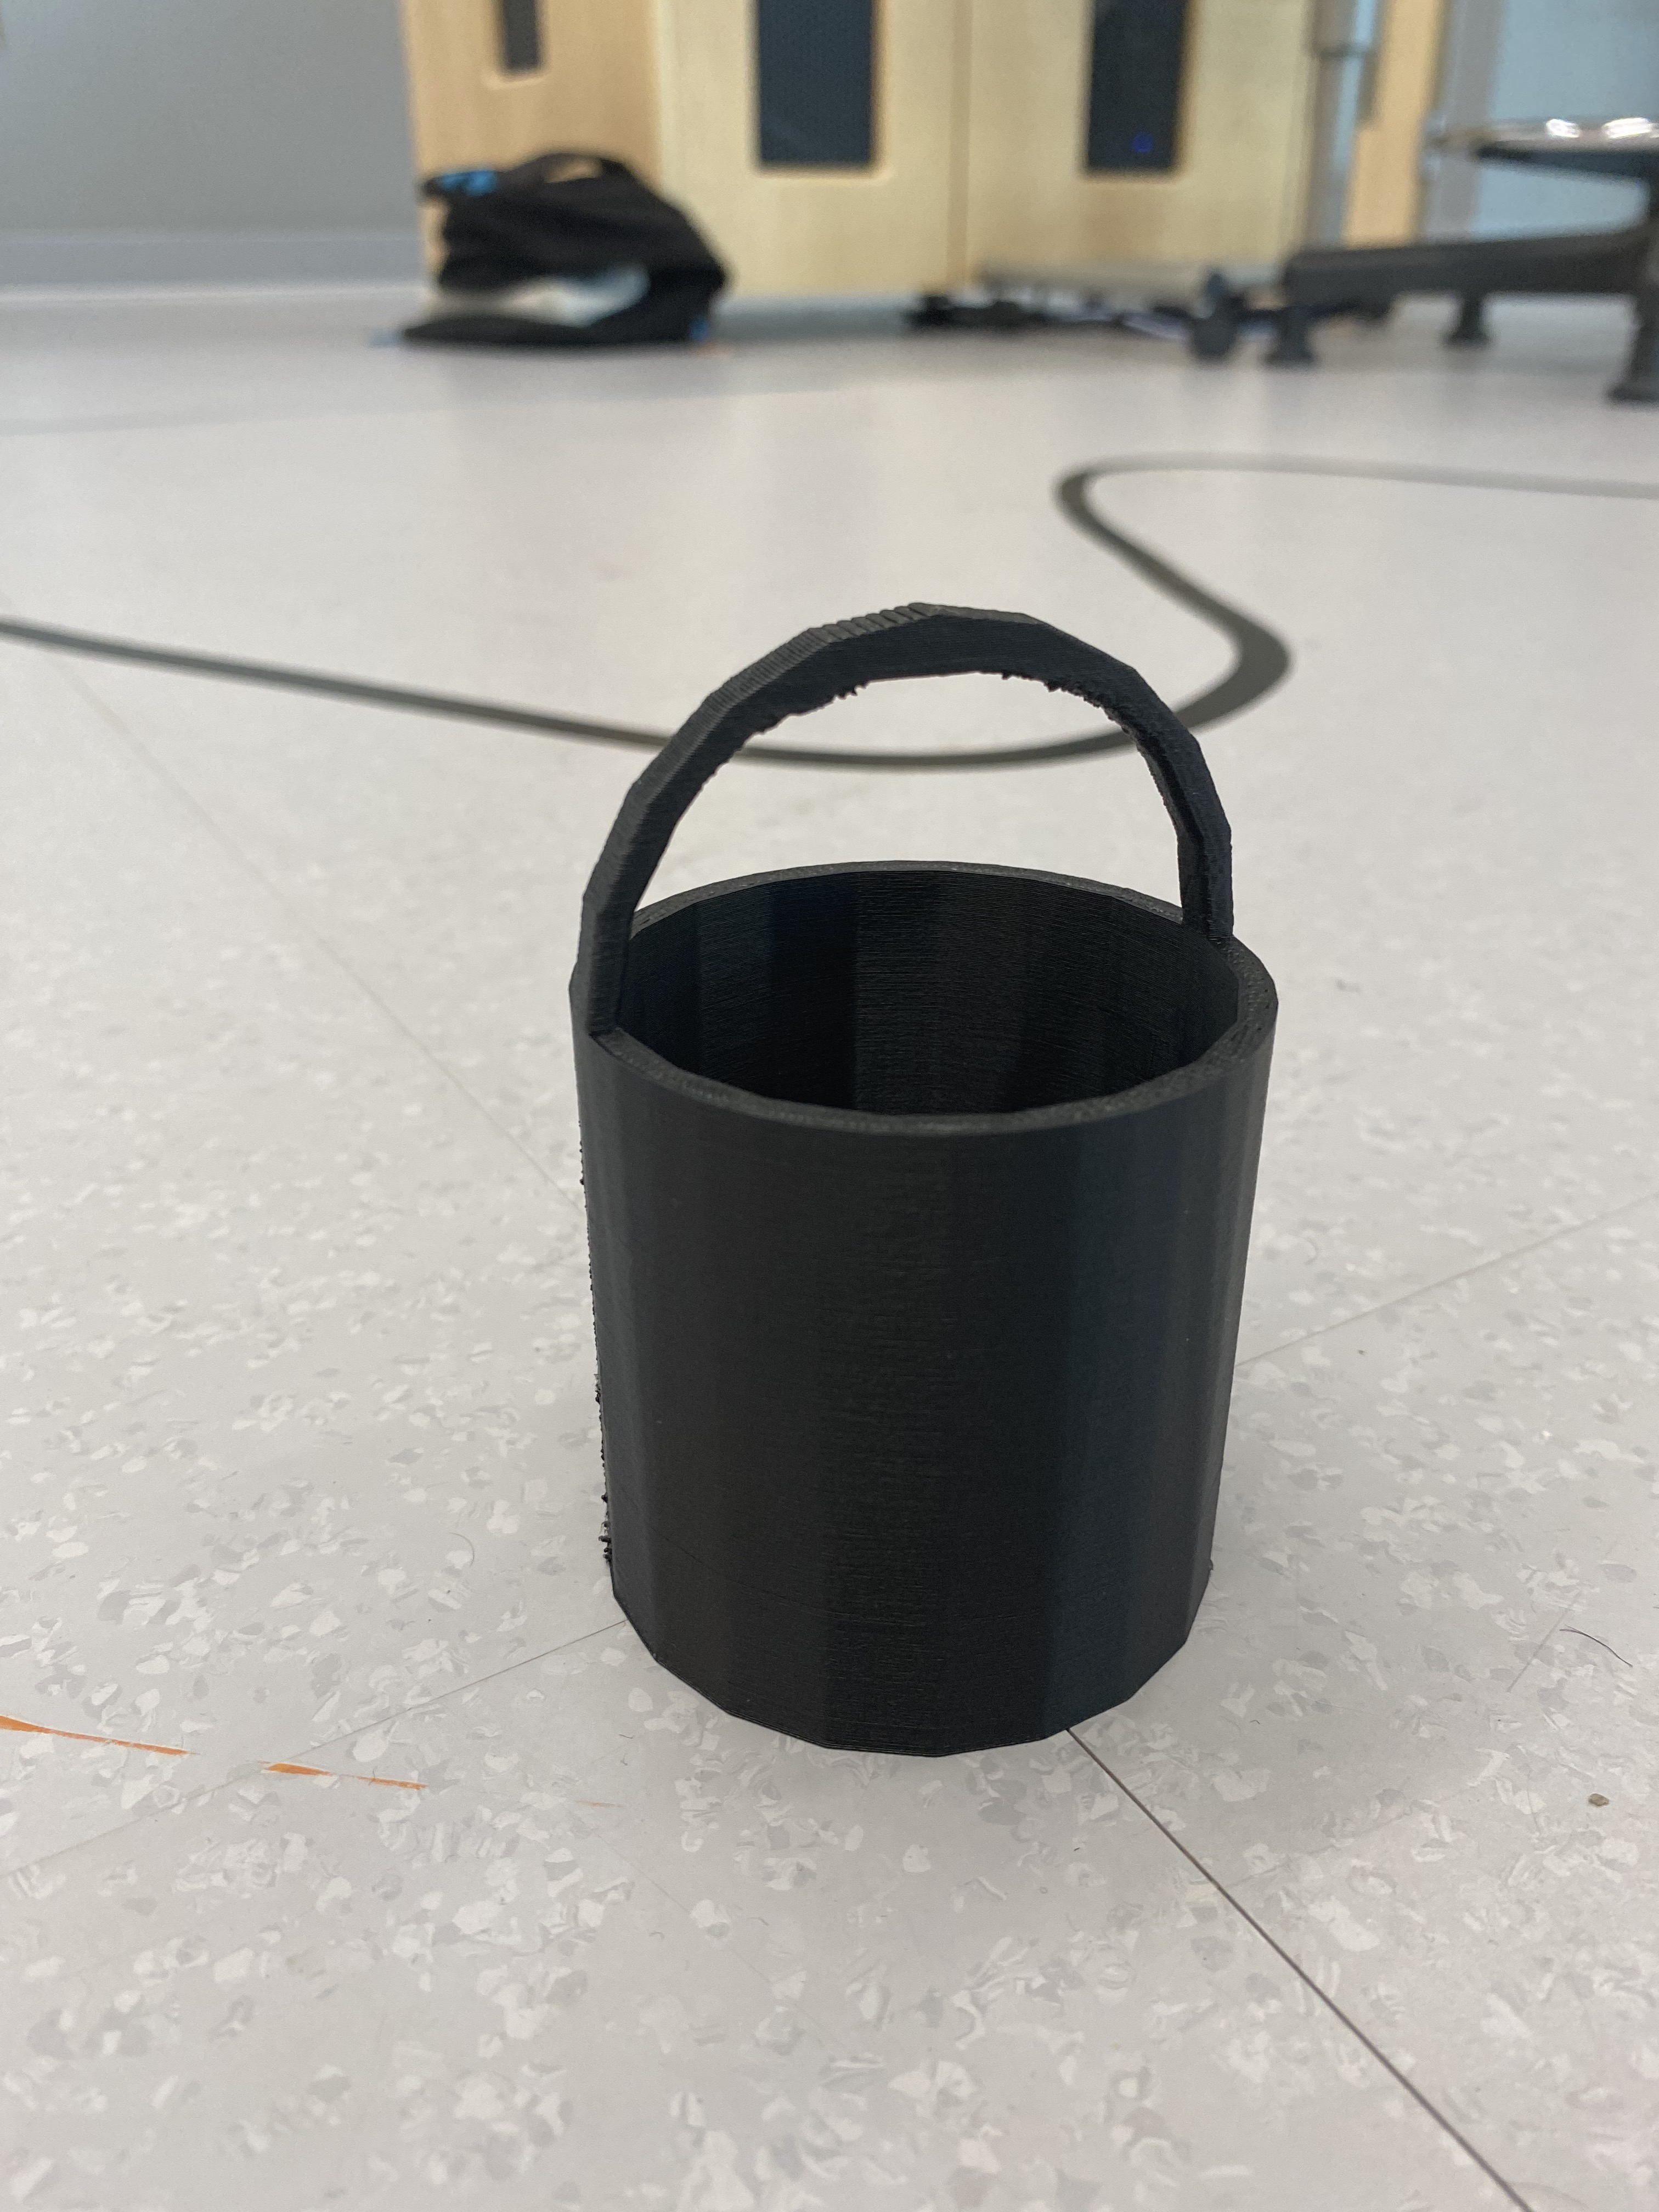bag: (554, 590, 1286, 1764)
